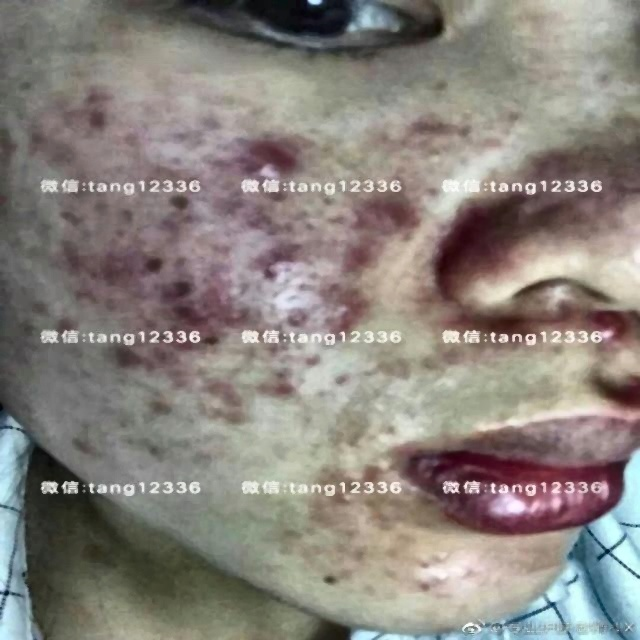papule: (263, 296, 324, 340), (159, 350, 207, 396), (365, 442, 409, 492), (365, 193, 413, 234), (329, 279, 375, 320), (46, 432, 106, 463), (73, 73, 124, 109), (98, 240, 140, 282), (76, 104, 131, 136), (205, 299, 256, 331), (254, 249, 300, 283), (156, 191, 200, 226), (144, 388, 185, 425), (203, 398, 246, 433), (56, 235, 96, 271), (173, 305, 214, 340), (25, 114, 67, 145), (266, 365, 302, 401), (591, 309, 629, 343), (227, 209, 271, 238), (203, 366, 240, 400), (46, 304, 84, 336), (293, 348, 335, 376), (206, 271, 248, 297), (107, 334, 142, 365), (131, 248, 176, 272), (340, 237, 370, 270), (160, 268, 194, 296), (250, 133, 276, 168), (412, 120, 440, 142)
